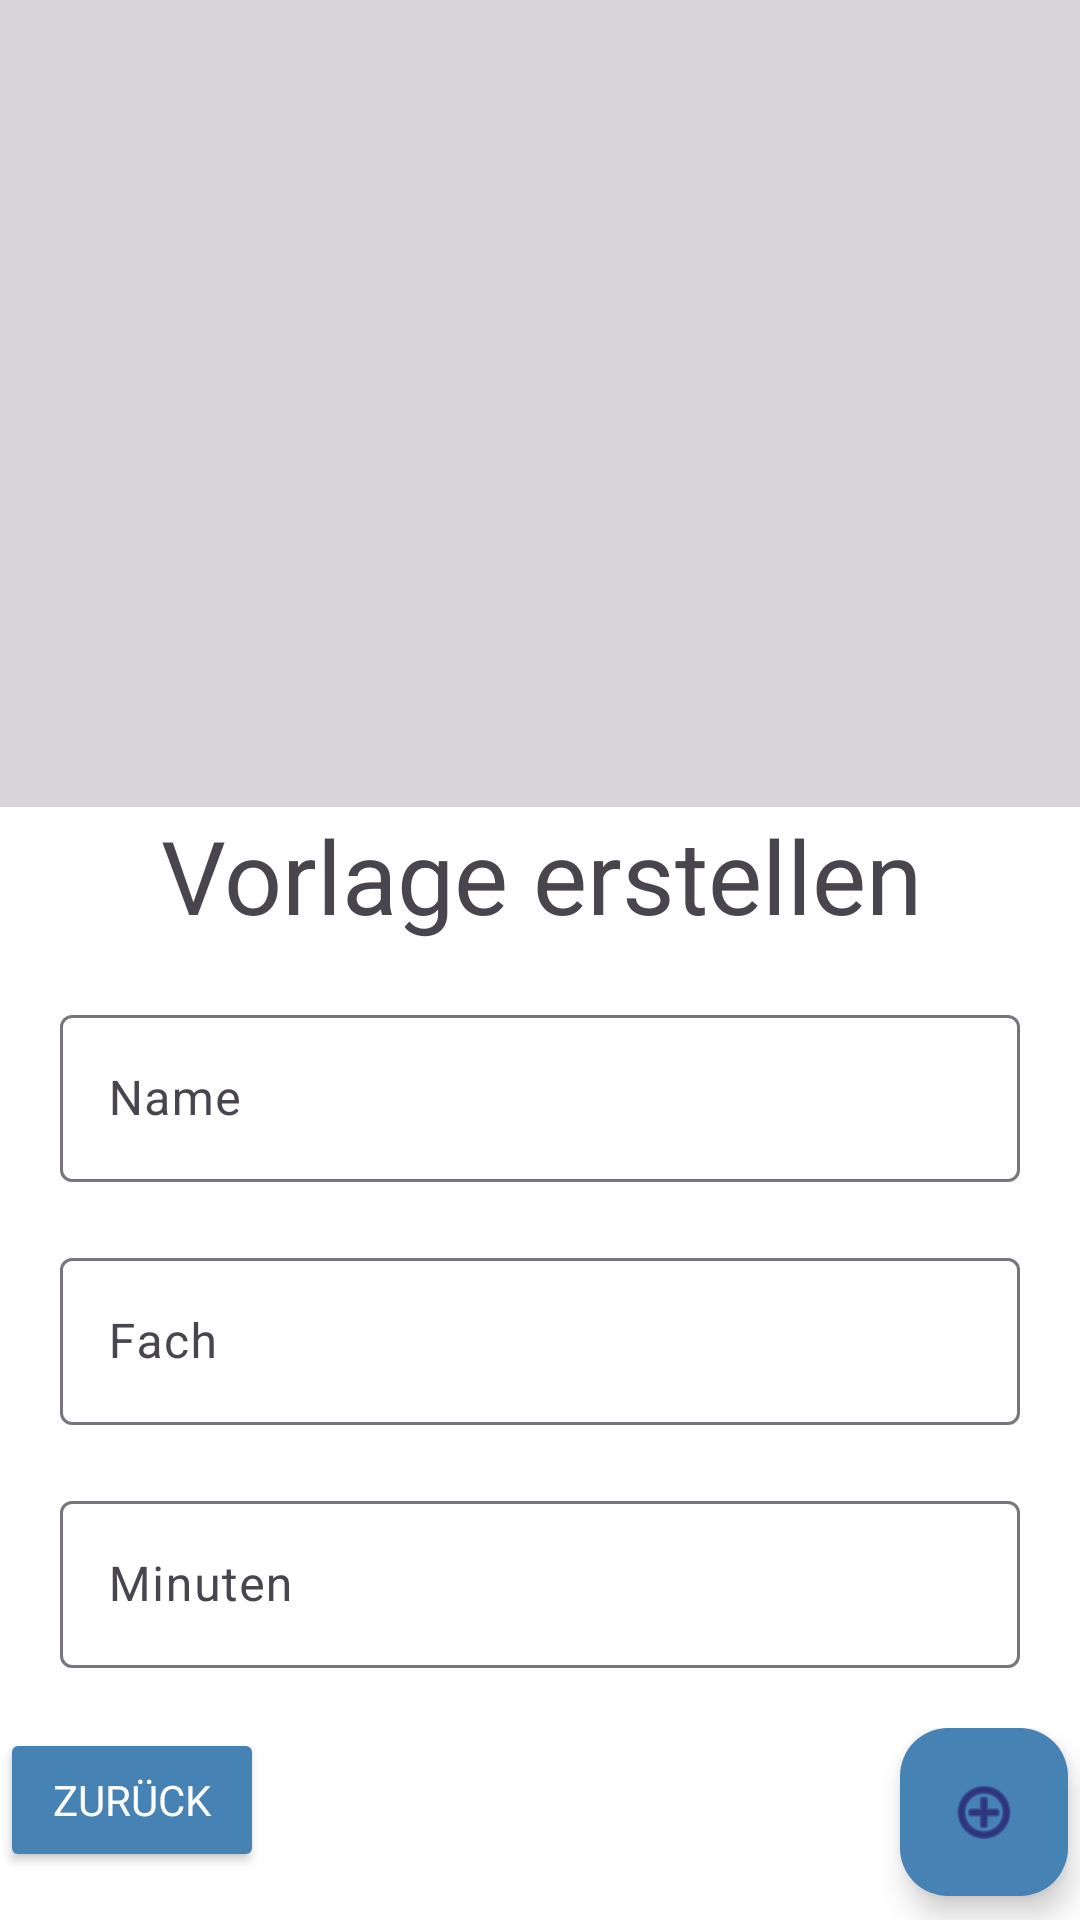

Screen size 1080w x 1920h. Icon name, then its center in pixels as [x,y]:
add: [984,1812]
